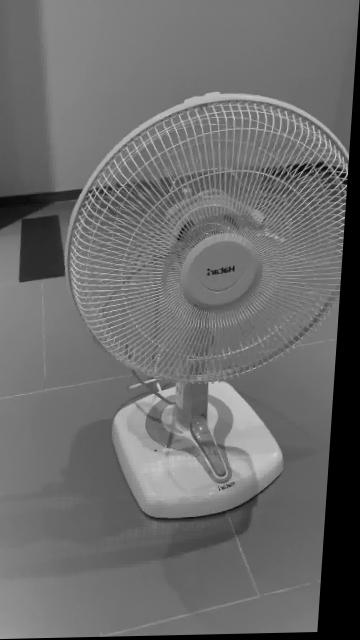Fan: (69, 94, 352, 523)
